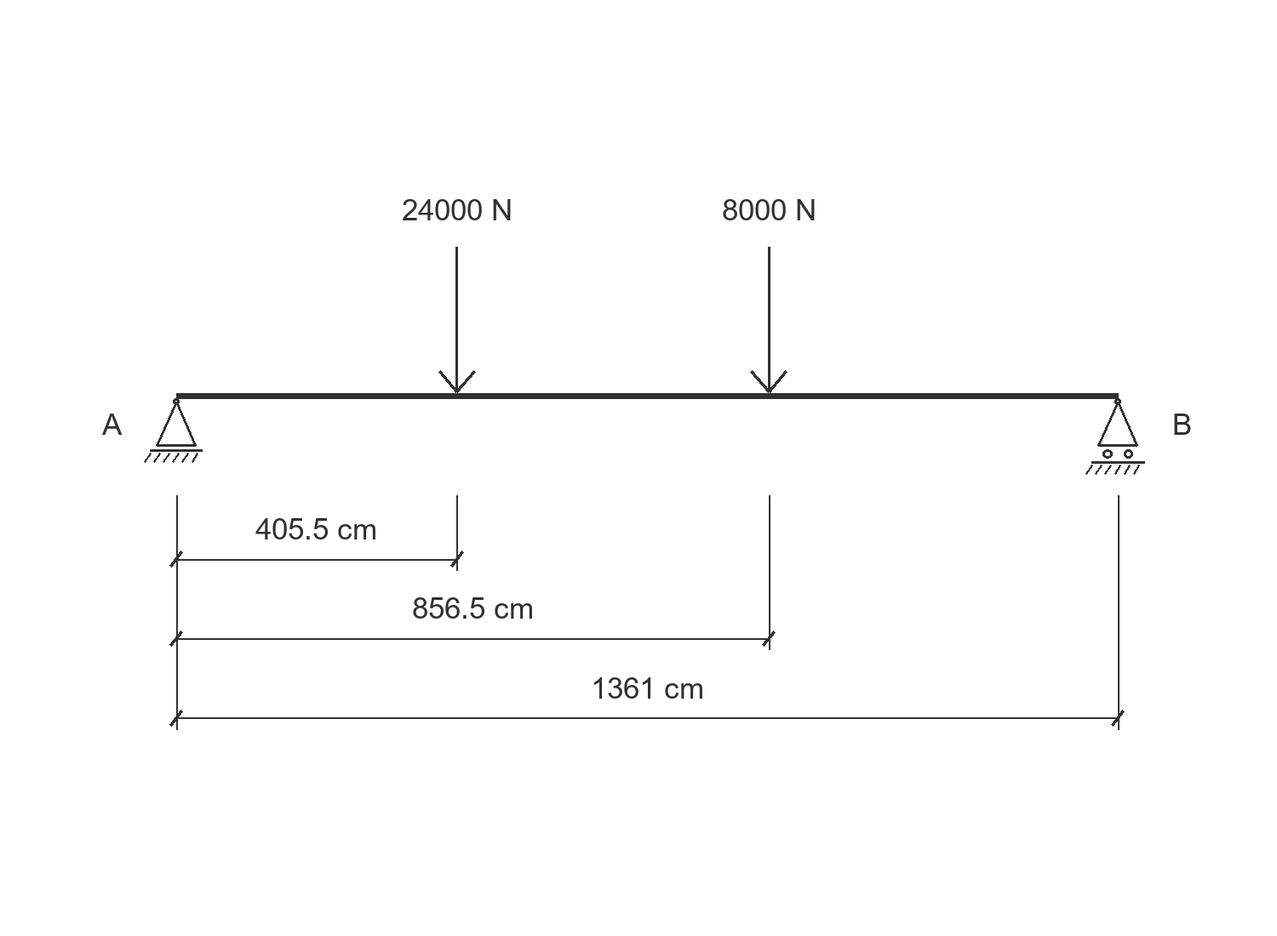pin_support: (144, 398, 203, 463)
point_load: (438, 247, 476, 393), (750, 247, 787, 393)
roller_support: (1085, 398, 1145, 475)
